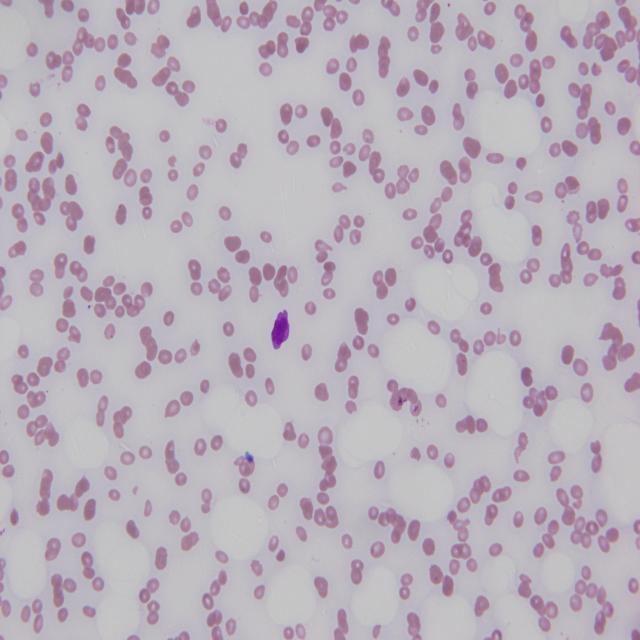cell: (271, 311, 290, 348)
